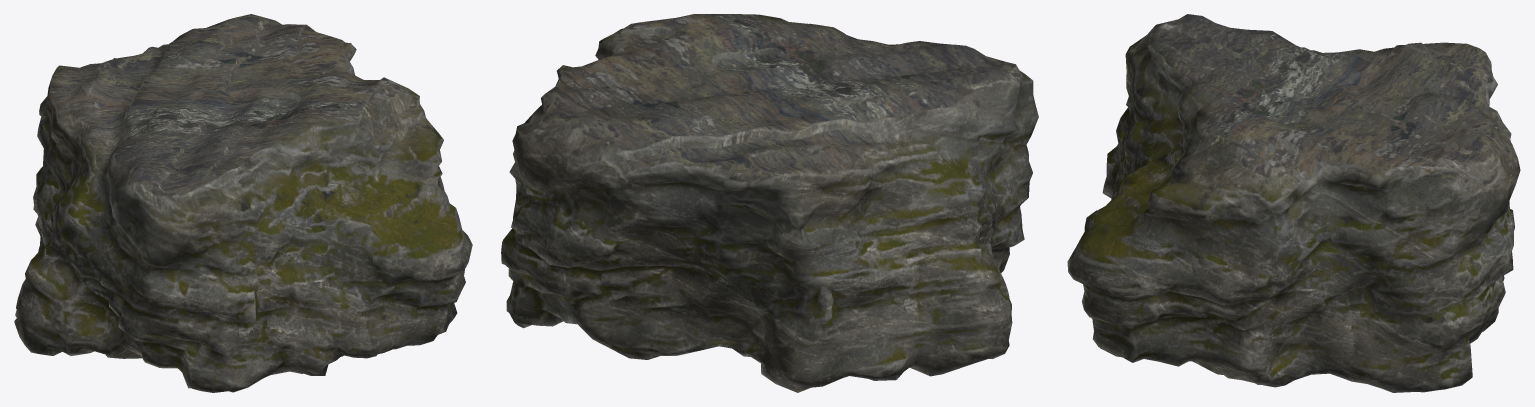
File: SM_Boulder_A.fbx
The picture shows the model from 3 angles, left to right: view 1: azimuth 30°, elevation 25°; view 2: azimuth 150°, elevation 25°; view 3: azimuth 270°, elevation 25°; orthographic projection. The views are drawn at different scales.
Parts seen in each view (by area): view 1: SM_Boulder_A_LOD0; view 2: SM_Boulder_A_LOD0; view 3: SM_Boulder_A_LOD0.
Boxes of the visible parts, <box> form: SM_Boulder_A_LOD0: <box>14,14,472,392</box>; SM_Boulder_A_LOD0: <box>501,14,1038,392</box>; SM_Boulder_A_LOD0: <box>1067,14,1520,392</box>.
Bounding box in the file's own units: 609 × 583 × 330.
